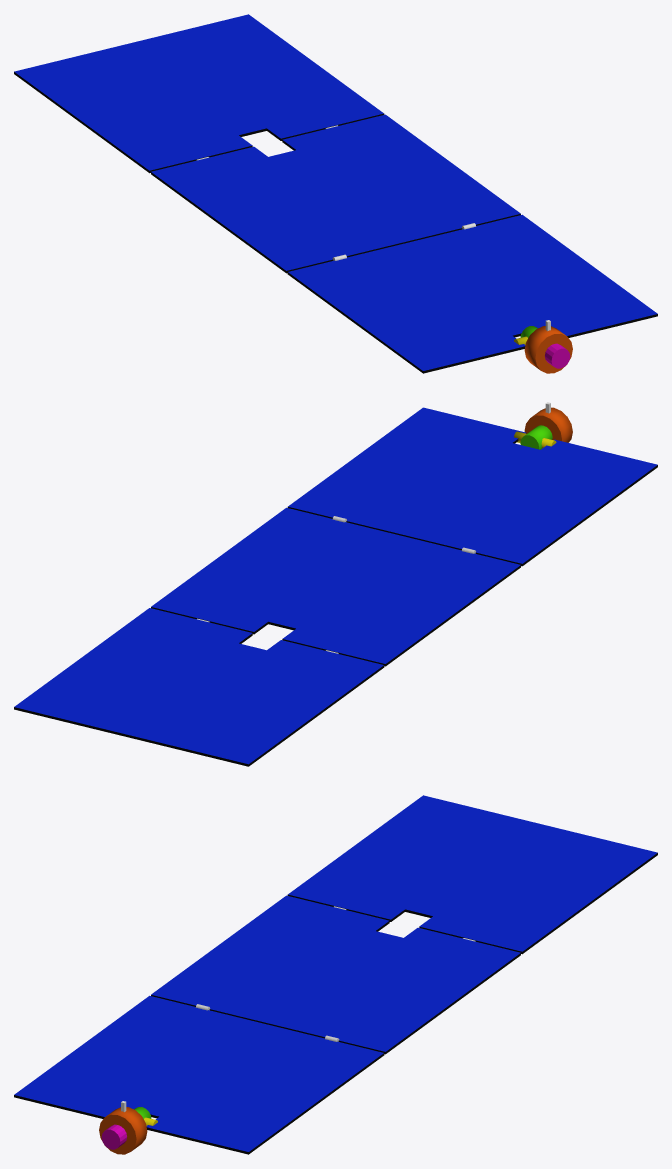
3 renders of one model, top to bottom at view 1: azimuth 30°, elevation 25°; view 2: azimuth 150°, elevation 25°; view 3: azimuth 330°, elevation 25°, orthographic.
Parts seen in each view (by area): view 1: panel3, panel2, panel1, panelarray_flat_3x1; view 2: panel3, panel2, panel1, panelarray_flat_3x1, pivot; view 3: panel3, panel2, panel1, panelarray_flat_3x1.
Boxes of the visible parts, <box> form: panel3: <box>14,14,384,173</box>; panel2: <box>151,114,520,273</box>; panel1: <box>287,214,657,373</box>; panelarray_flat_3x1: <box>524,326,572,373</box>; panel3: <box>14,608,384,766</box>; panel2: <box>151,507,520,666</box>; panel1: <box>287,407,657,566</box>; panelarray_flat_3x1: <box>524,407,572,442</box>; pivot: <box>514,425,556,449</box>; panel3: <box>287,795,657,954</box>; panel2: <box>151,895,520,1054</box>; panel1: <box>14,995,384,1154</box>; panelarray_flat_3x1: <box>99,1107,147,1154</box>.
Size of the model in its own units: 1 by 0.1954 by 3.17.
